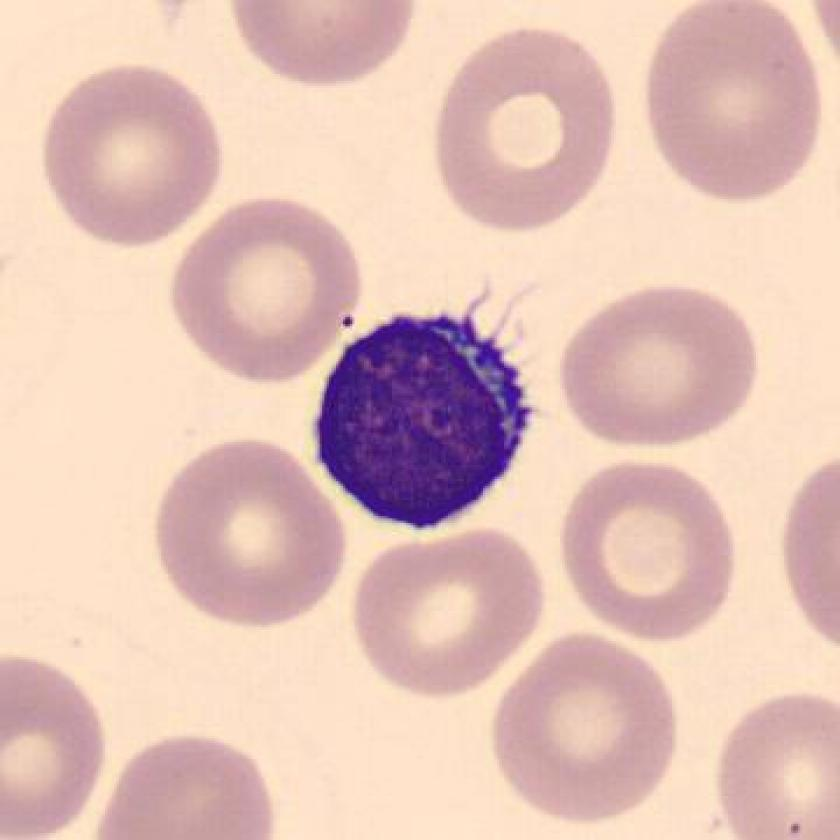lymphocyte: (293, 291, 552, 550)
